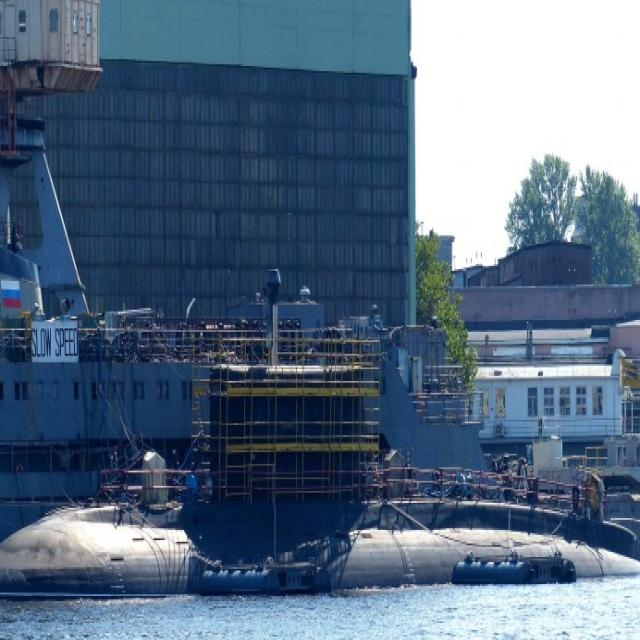submarine: (1, 458, 640, 573)
